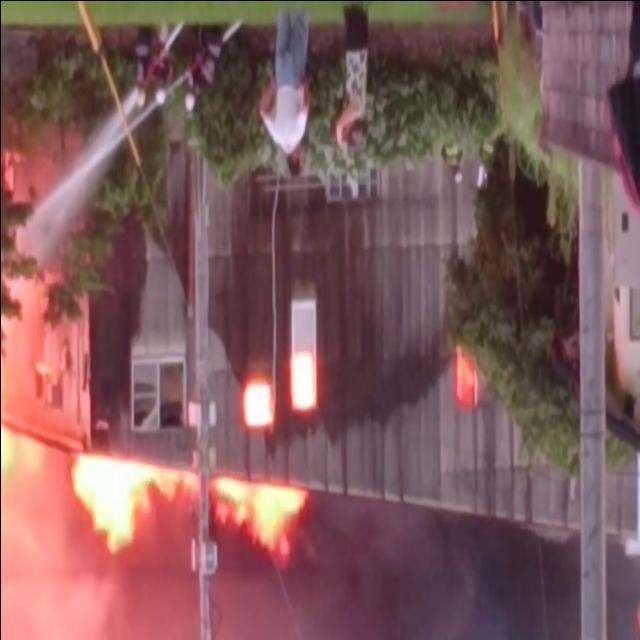Fire: (70, 450, 194, 564), (212, 480, 311, 564), (451, 345, 475, 403)
